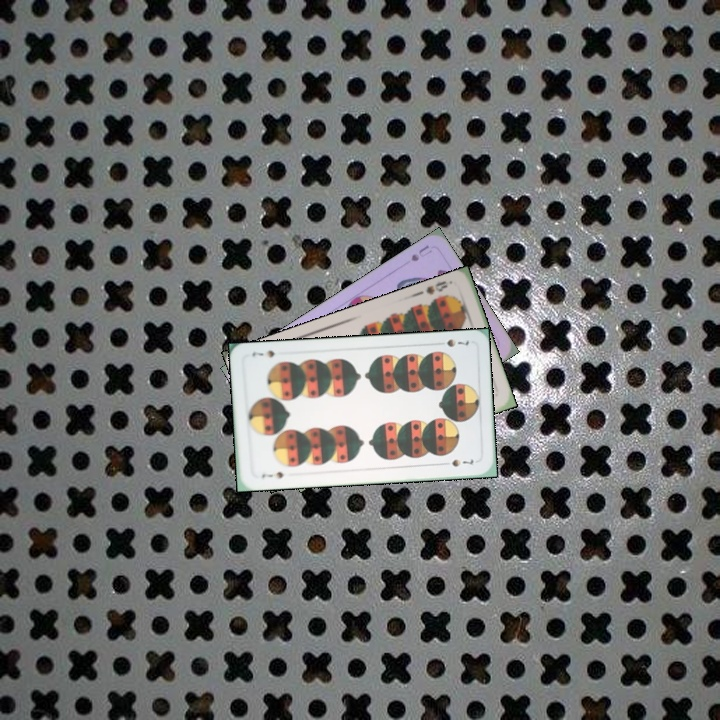S7: (443, 335, 472, 350), (258, 468, 286, 481)
S8: (422, 277, 450, 297)
SU: (407, 241, 435, 264)
